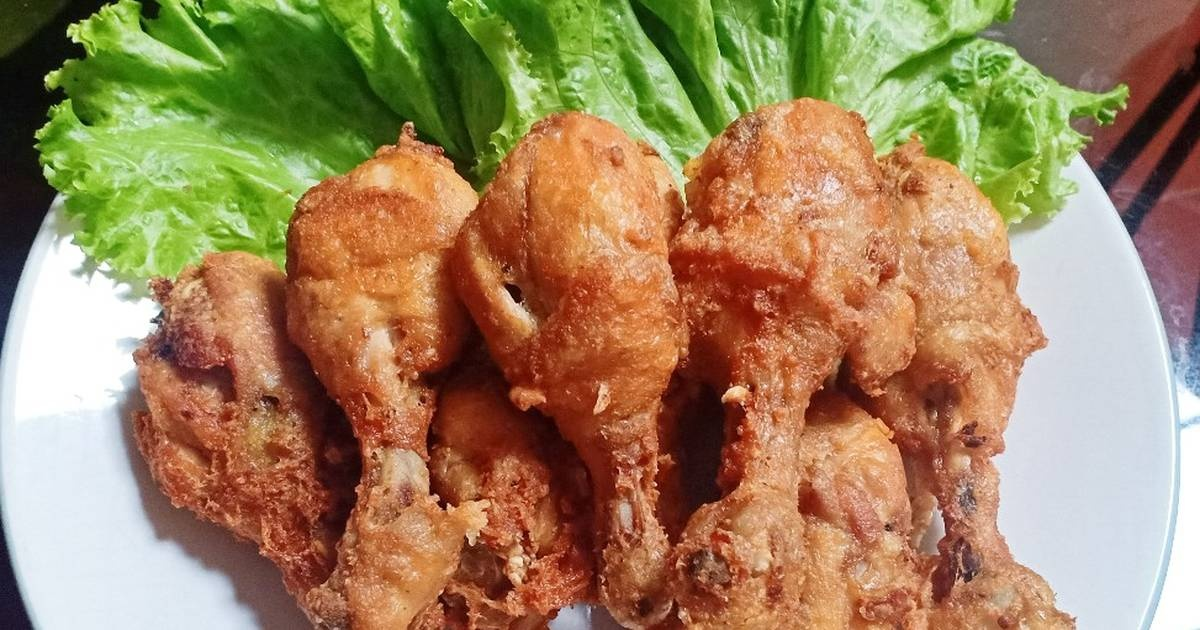ayam_goreng: (672, 89, 915, 625), (448, 109, 703, 611), (255, 122, 487, 628)
